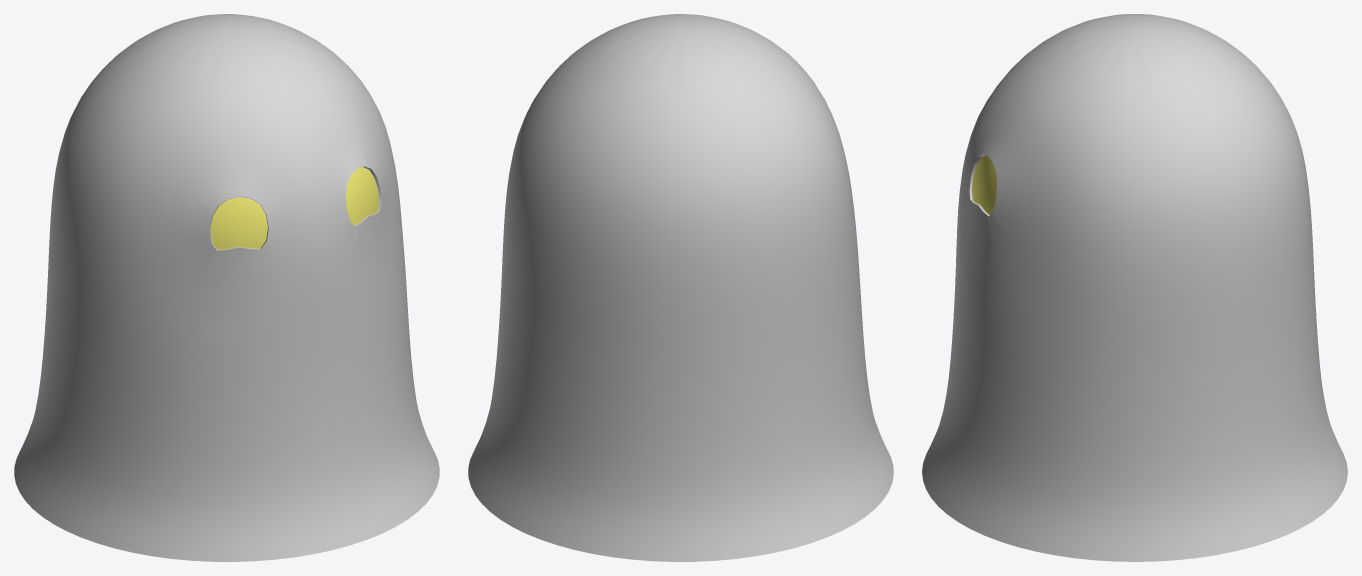
The model's file is Lv3_FB_Ghost.FBX.
3 renders of one model, left to right at view 1: azimuth 30°, elevation 25°; view 2: azimuth 150°, elevation 25°; view 3: azimuth 270°, elevation 25°, orthographic.
Parts seen in each view (by area): view 1: Sphere002, Sphere001; view 2: Sphere002; view 3: Sphere002, Sphere001.
Part boxes in pixels (x1=…): Sphere002: x1=14, y1=14, x2=439, y2=561; Sphere001: x1=210, y1=167, x2=379, y2=249; Sphere002: x1=468, y1=14, x2=893, y2=561; Sphere002: x1=922, y1=14, x2=1347, y2=561; Sphere001: x1=972, y1=155, x2=996, y2=214.
Bounding box in the file's own units: 168 × 198 × 168.
